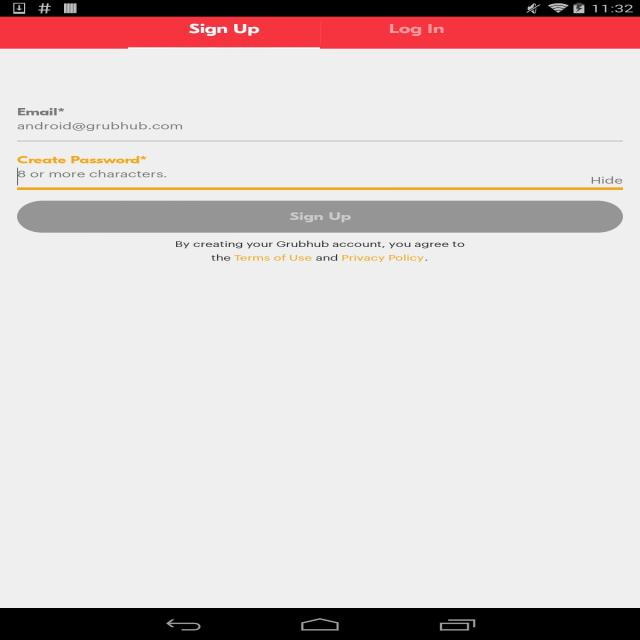button: (17, 200, 623, 232), (128, 17, 320, 48), (321, 16, 498, 49), (585, 173, 628, 186)
field: (8, 90, 628, 142), (13, 149, 632, 189)
label: (15, 152, 150, 166), (13, 104, 67, 117), (588, 173, 628, 186)
link: (337, 252, 426, 266), (232, 252, 317, 266)
text: (16, 120, 190, 132), (15, 170, 173, 179), (184, 22, 259, 38), (382, 22, 450, 38)
